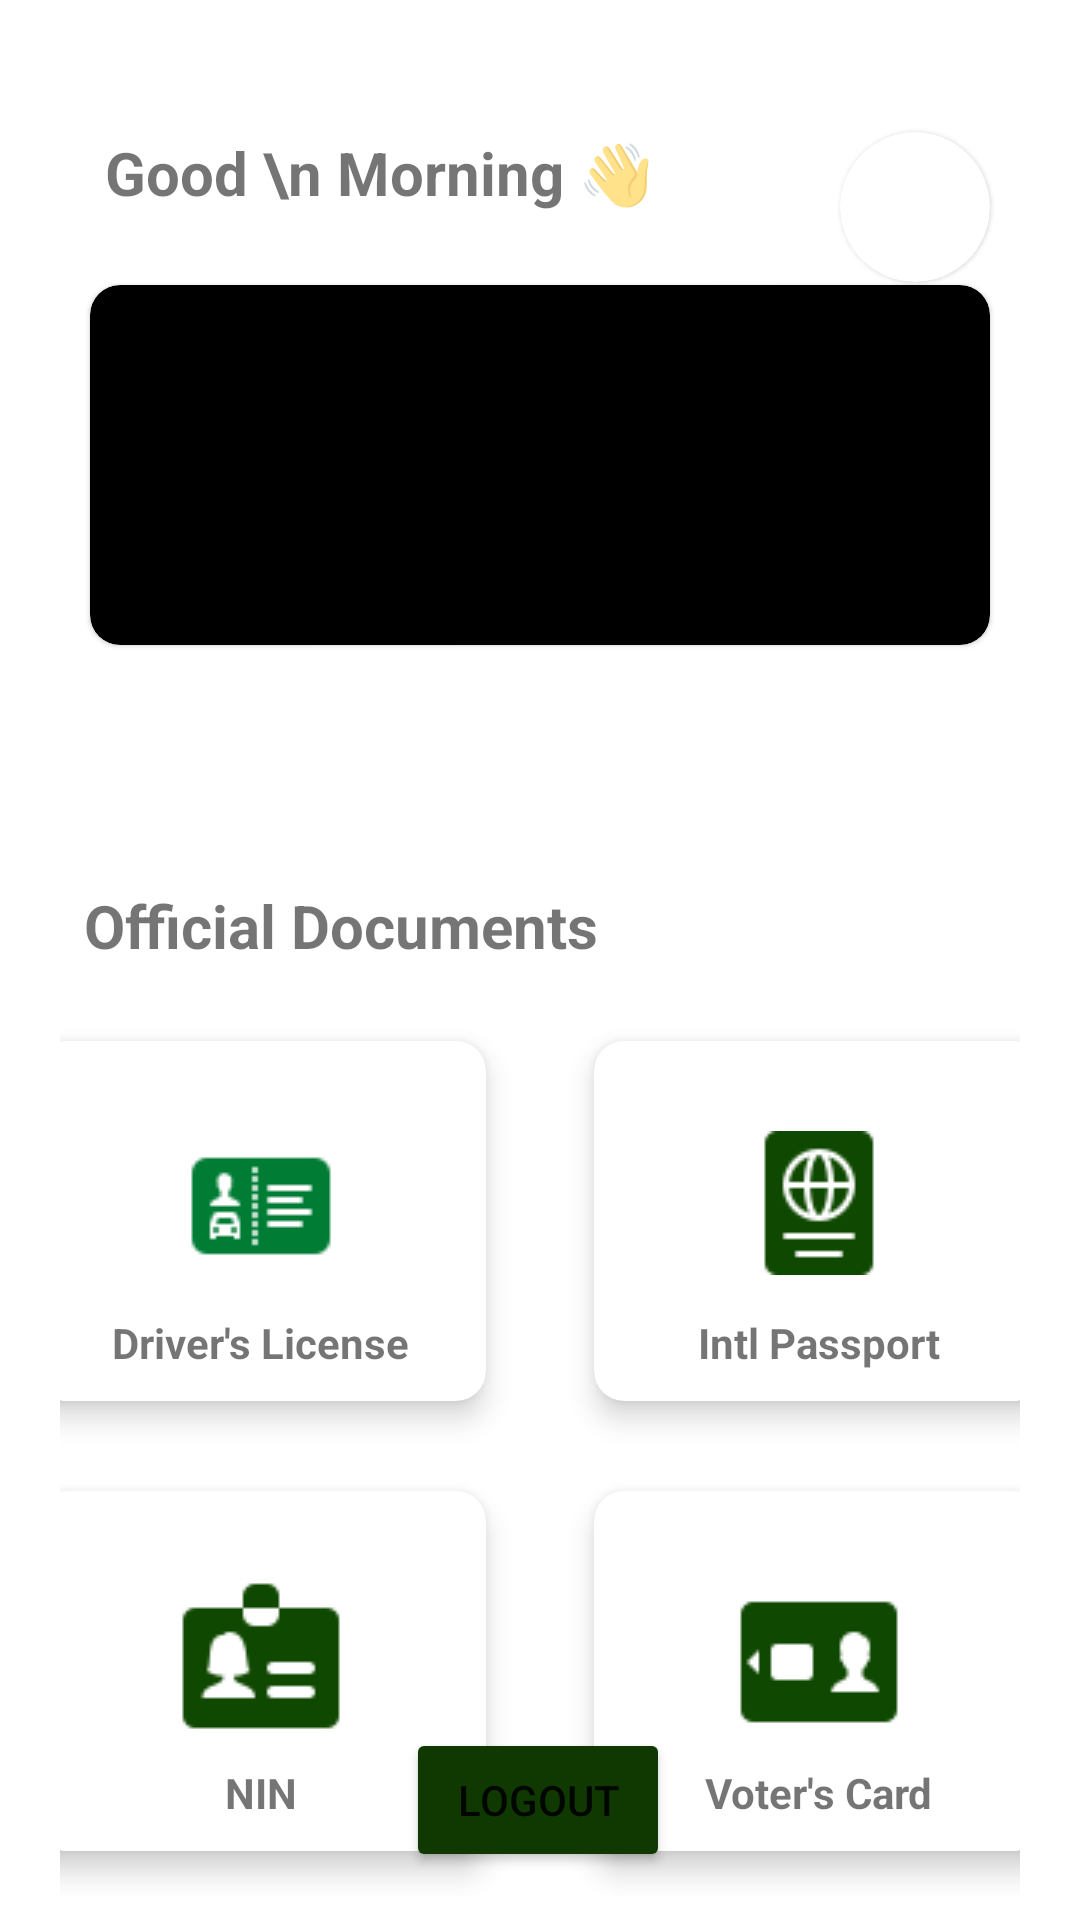

Screen size 1080x1920. Icon name, then its center in pixels as point (x, y):
idic: point (261, 1656)
passic: point (819, 1203)
